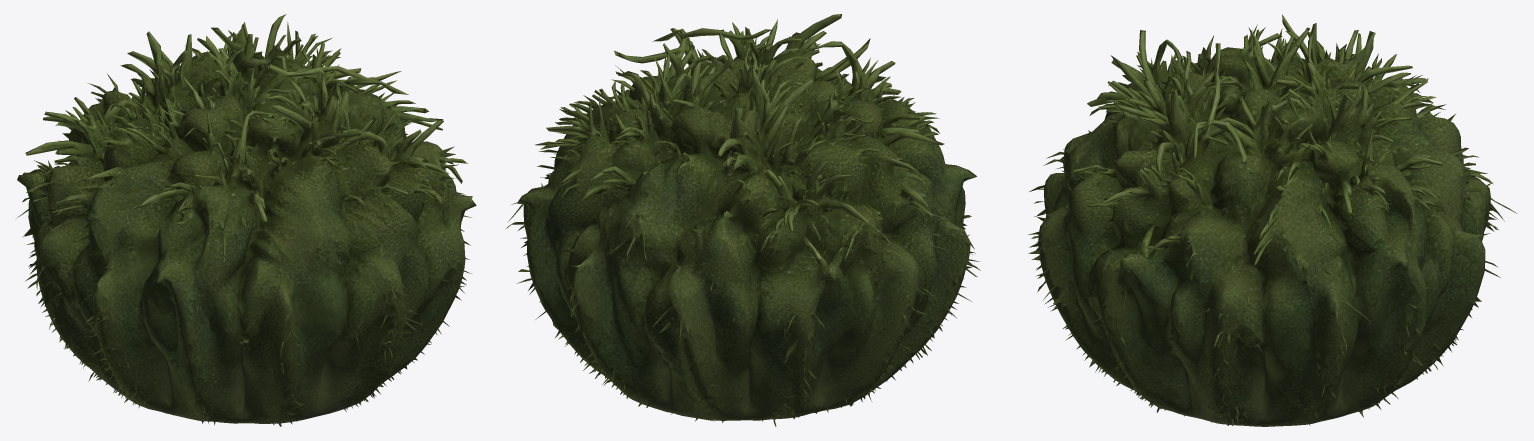
Rendered from grass-low-patch.glb.
3 renders of one model, left to right at view 1: azimuth 30°, elevation 25°; view 2: azimuth 150°, elevation 25°; view 3: azimuth 270°, elevation 25°, orthographic. The views are drawn at different scales.
Visible parts, largest first — view 1: tripo_node_3dd1e8b3-be31-4346-bdad-4d94c27378f1; view 2: tripo_node_3dd1e8b3-be31-4346-bdad-4d94c27378f1; view 3: tripo_node_3dd1e8b3-be31-4346-bdad-4d94c27378f1.
Part boxes in pixels (left/top/right/bottom): tripo_node_3dd1e8b3-be31-4346-bdad-4d94c27378f1: left=16, top=14, right=476, bottom=426; tripo_node_3dd1e8b3-be31-4346-bdad-4d94c27378f1: left=505, top=14, right=980, bottom=426; tripo_node_3dd1e8b3-be31-4346-bdad-4d94c27378f1: left=1028, top=14, right=1517, bottom=426.
Bounding box in the file's own units: 1.56 × 1.2 × 1.66.
1 material, 1 textured.
